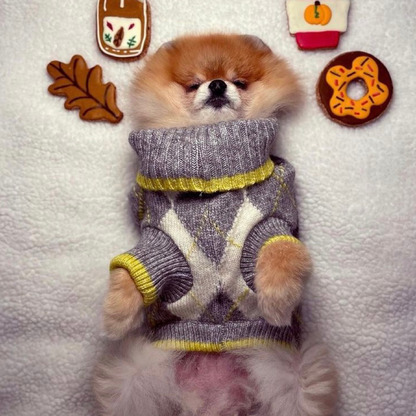Pomeranian: (97, 27, 321, 402)
